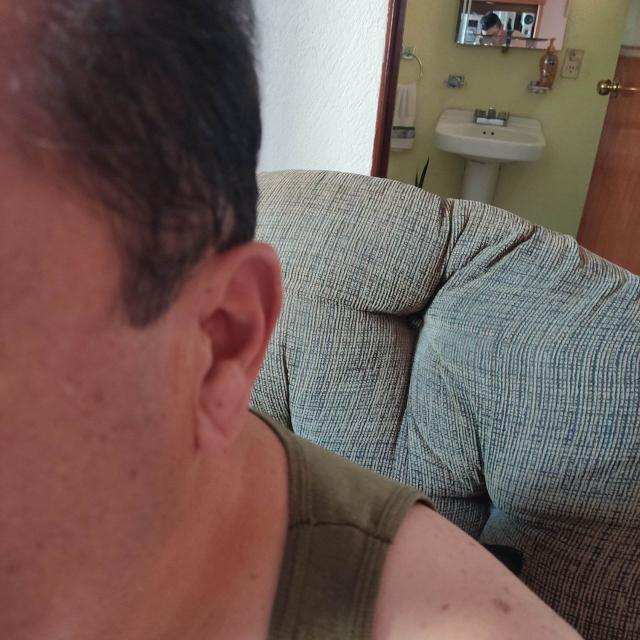ear: (195, 242, 281, 451)
